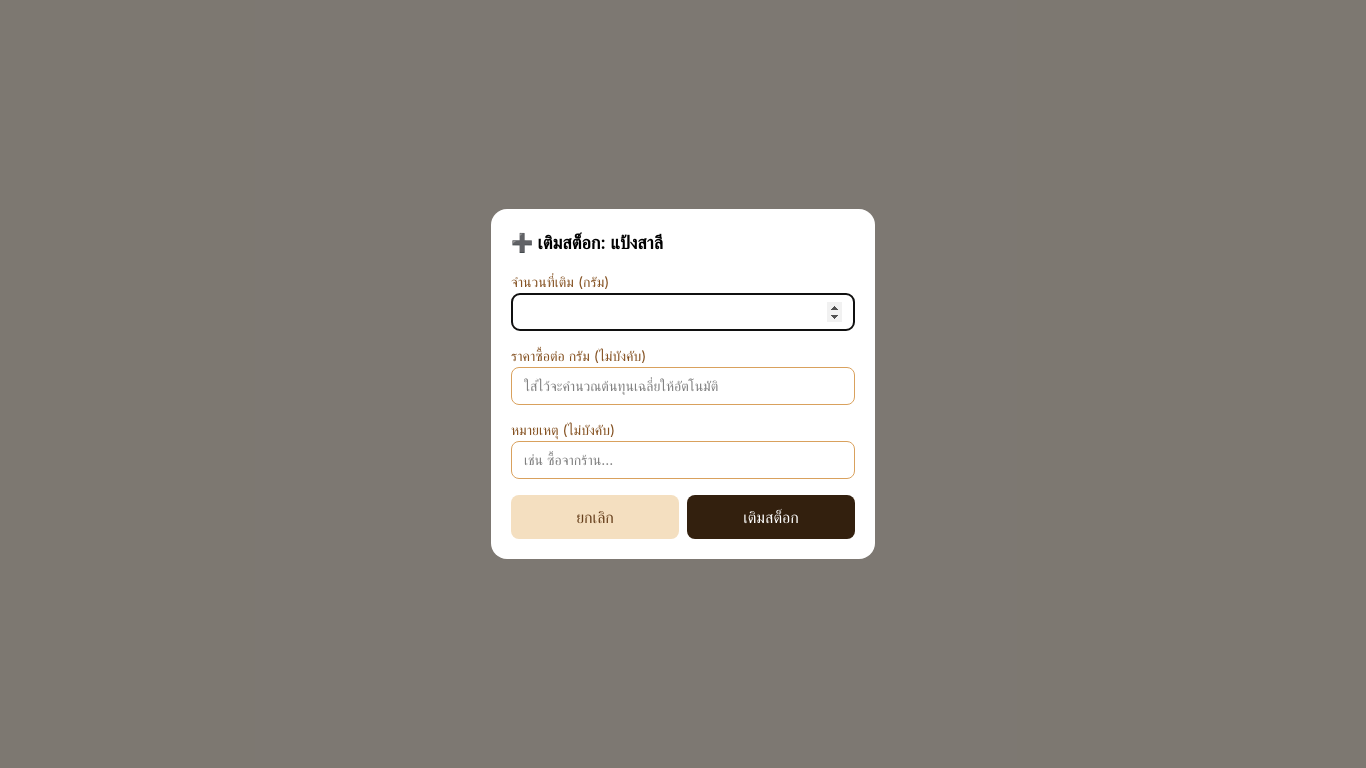
Test: RestockModal › ไม่กรอกจำนวน กดเติมสต็อกแล้วขึ้น error ไม่ยิง restockIngredient
The width and height of the screenshot is (1366, 768).
Click the button "เติมสต็อก".
click(771, 517)  # box [687, 495, 855, 539]
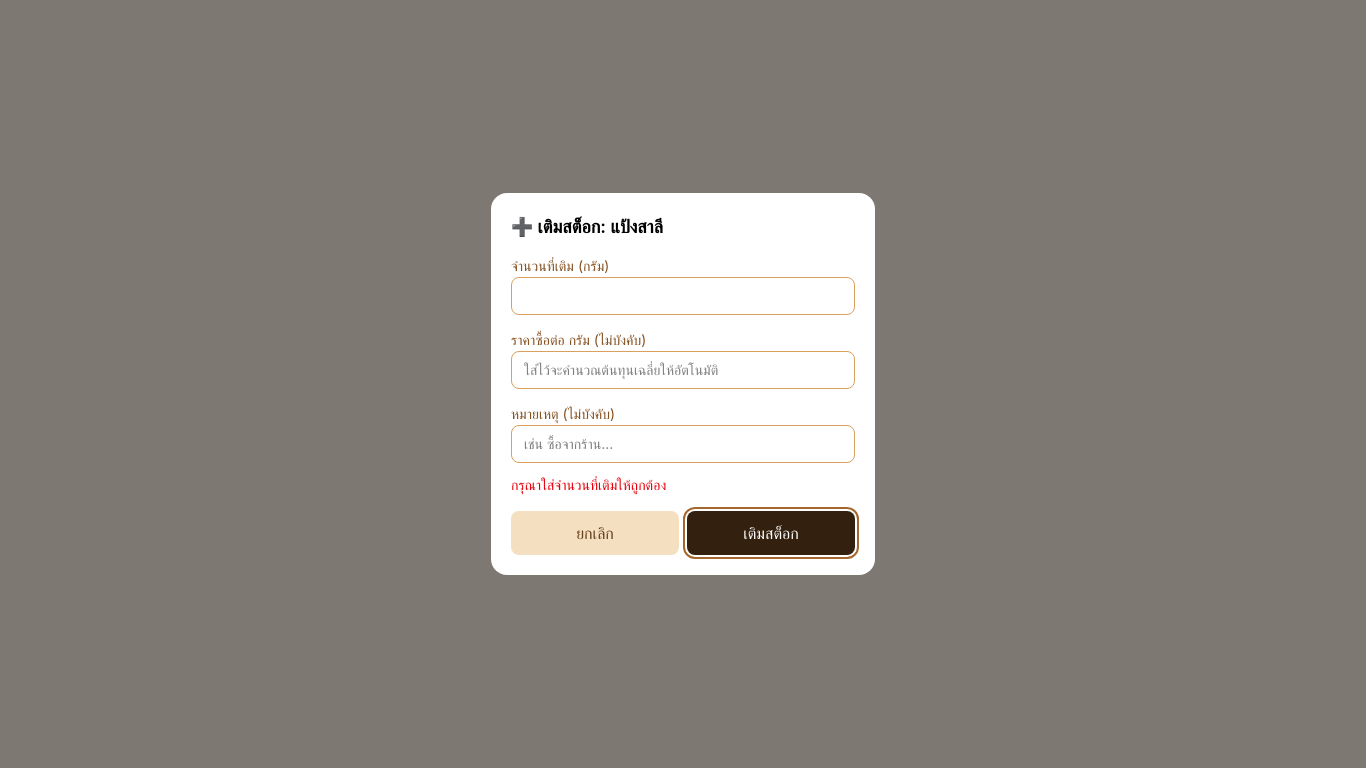
Now the text "กรุณาใส่จำนวนที่เติมให้ถูกต้อง" is shown, box [511, 476, 666, 493]
